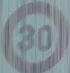Speed limit: (4, 3, 62, 64)
